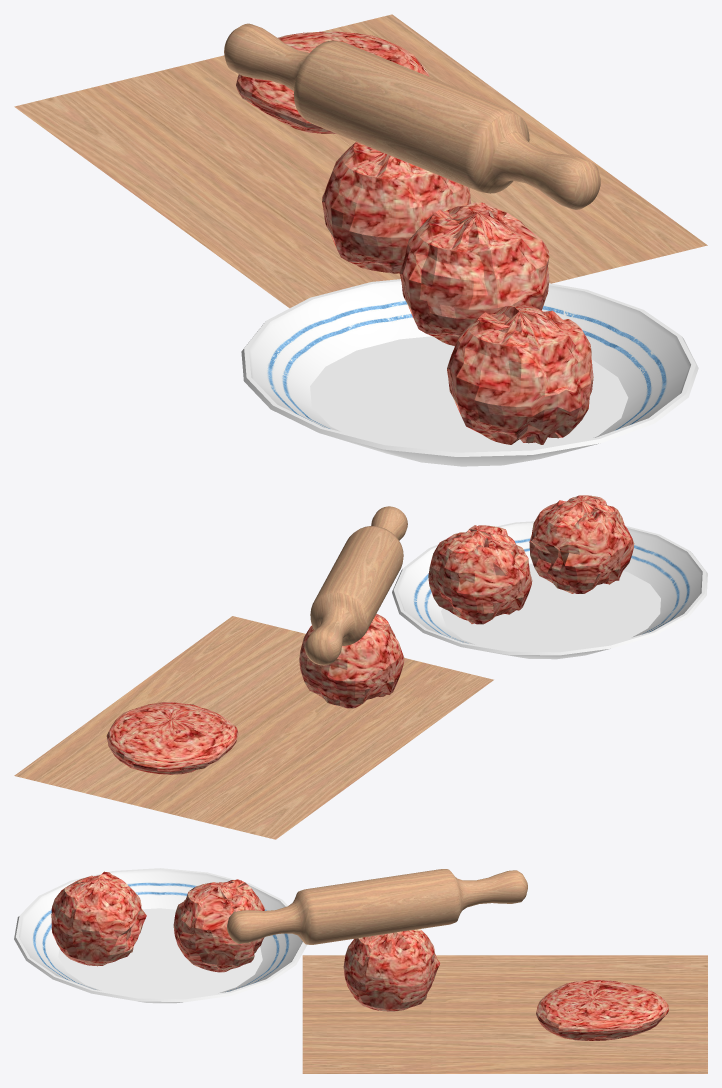
File: STEP 4 PIPIHKAN.glb
The picture shows the model from 3 angles, top to bottom: view 1: azimuth 30°, elevation 25°; view 2: azimuth 150°, elevation 25°; view 3: azimuth 270°, elevation 25°; orthographic projection. The views are drawn at different scales.
Visible parts, largest first — view 1: Plane, Prato_Material #25_0, Cylinder__0, Sphere.002, Sphere.003, Sphere, Sphere.001; view 2: Plane, Prato_Material #25_0, Cylinder__0, Sphere.002, Sphere.003, Sphere.001, Sphere; view 3: Plane, Prato_Material #25_0, Cylinder__0, Sphere.002, Sphere.001, Sphere, Sphere.003.
Boxes of the visible parts, x1=… form: Plane: x1=14, y1=14, x2=707, y2=308; Prato_Material #25_0: x1=241, y1=279, x2=698, y2=466; Cylinder__0: x1=224, y1=23, x2=600, y2=209; Sphere.002: x1=447, y1=305, x2=593, y2=444; Sphere.003: x1=399, y1=202, x2=549, y2=346; Sphere: x1=322, y1=142, x2=471, y2=273; Sphere.001: x1=236, y1=31, x2=429, y2=133; Plane: x1=14, y1=616, x2=493, y2=839; Prato_Material #25_0: x1=392, y1=521, x2=707, y2=659; Cylinder__0: x1=305, y1=506, x2=407, y2=665; Sphere.002: x1=529, y1=495, x2=634, y2=593; Sphere.003: x1=428, y1=525, x2=532, y2=624; Sphere.001: x1=106, y1=702, x2=238, y2=774; Sphere: x1=299, y1=614, x2=404, y2=708; Plane: x1=302, y1=955, x2=707, y2=1073; Prato_Material #25_0: x1=14, y1=868, x2=306, y2=1003; Cylinder__0: x1=227, y1=869, x2=527, y2=944; Sphere.002: x1=51, y1=871, x2=146, y2=966; Sphere.001: x1=536, y1=980, x2=668, y2=1040; Sphere: x1=343, y1=929, x2=440, y2=1011; Sphere.003: x1=173, y1=879, x2=264, y2=972.
Bounding box in the file's own units: 3.06 × 1.08 × 5.23.
6 materials, 6 textured.
